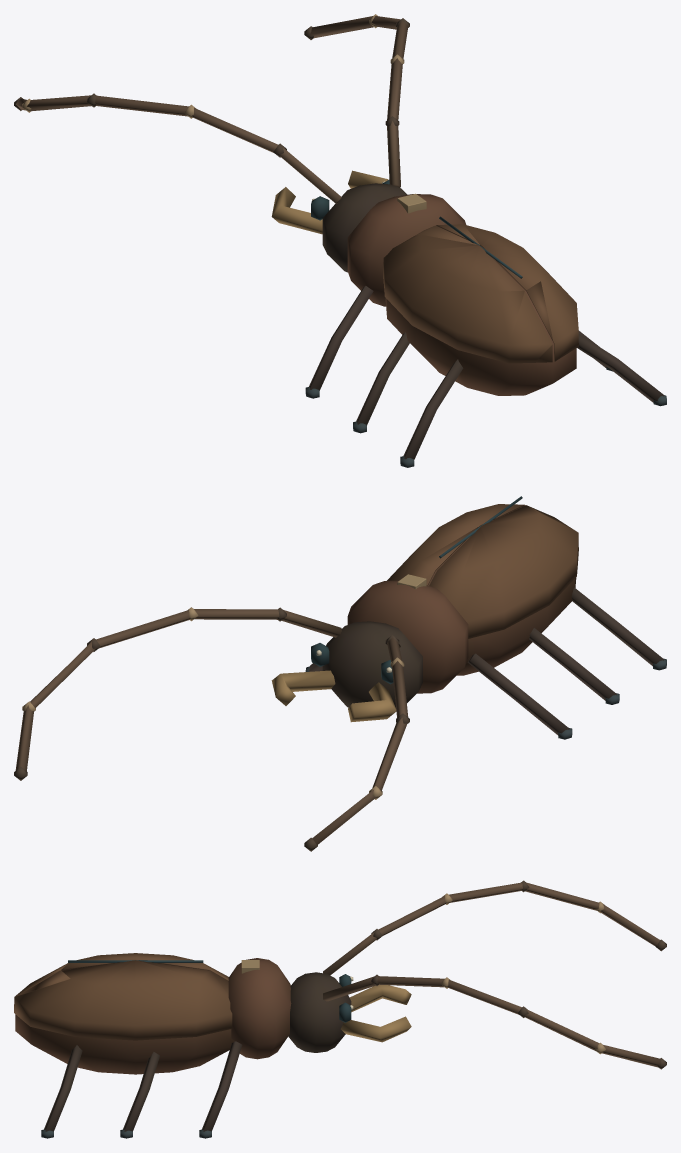
File: insect_longhorn_giant.glb
3 views of the same model, one above another, from view 1: azimuth 30°, elevation 25°; view 2: azimuth 150°, elevation 25°; view 3: azimuth 270°, elevation 25° (orthographic). The views are drawn at different scales.
Visible parts, largest first — view 1: Model; view 2: Model; view 3: Model.
Boxes of the visible parts, <box> form: Model: <box>14,14,666,467</box>; Model: <box>14,496,666,851</box>; Model: <box>14,880,666,1138</box>.
Size of the model in its own units: 0.1483 by 0.0715 by 0.279.
